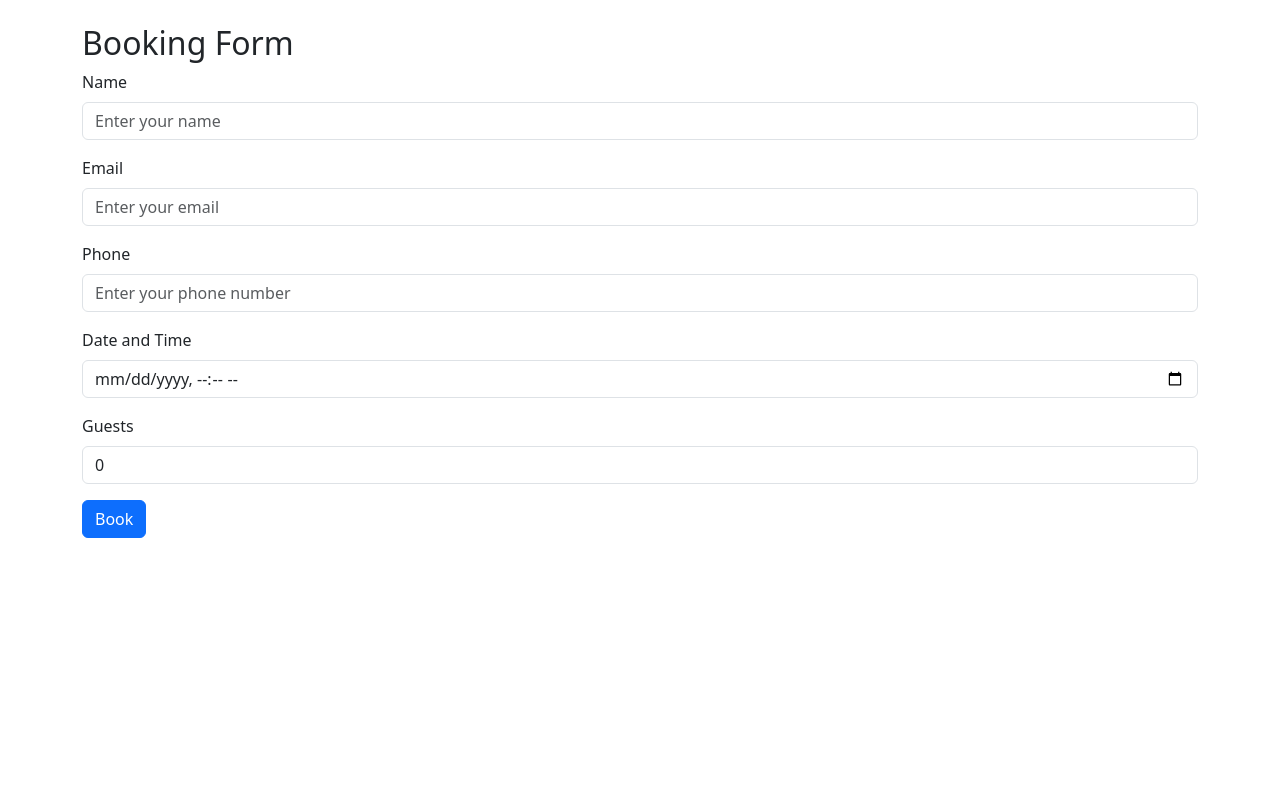
Test: BookTable Component › validates required fields
What coordinates should you click on to do the following:
click the button "Book"
I would click on:
 (114, 519)
Its box is x1=82 y1=500 x2=146 y2=538.
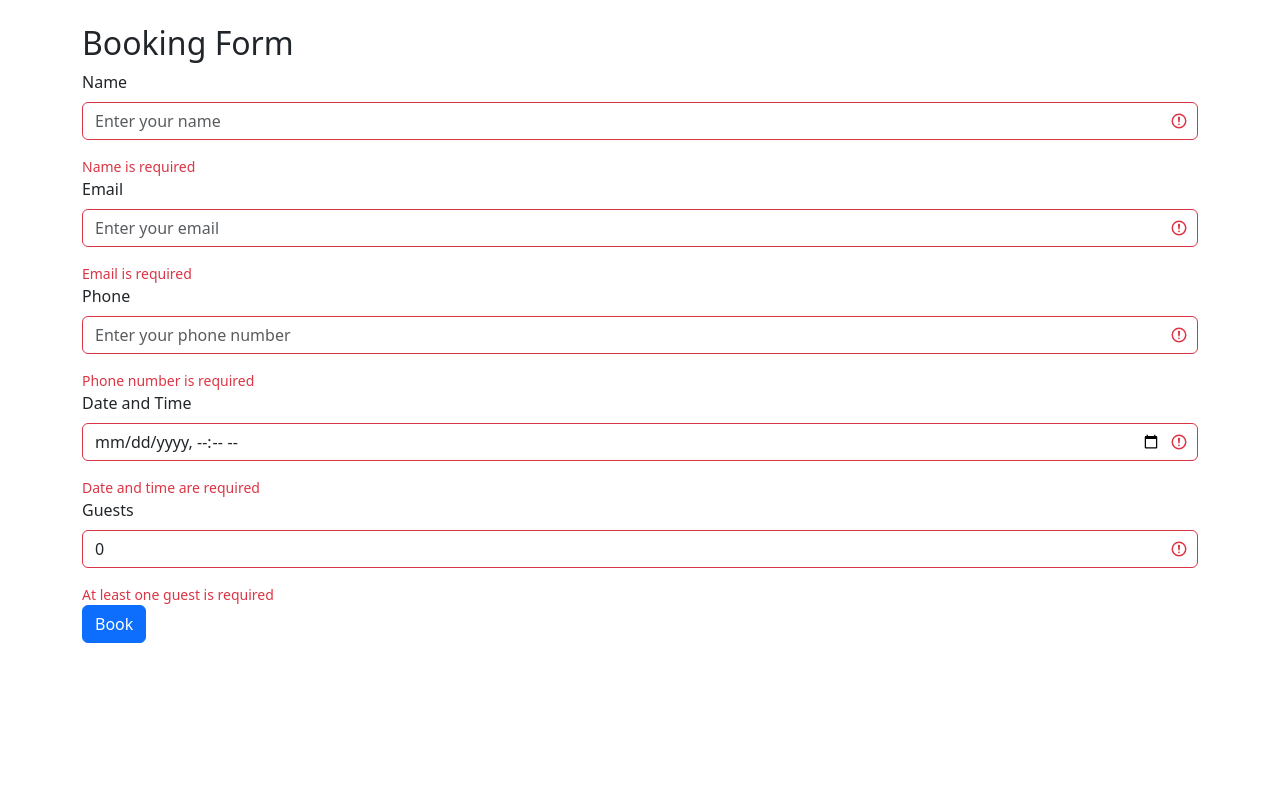
Now the text "Name is required" is shown, box x1=82 y1=157 x2=195 y2=176
Now the text "Email is required" is shown, box x1=82 y1=264 x2=192 y2=283
Now the text "Phone number is required" is shown, box x1=82 y1=371 x2=254 y2=390
